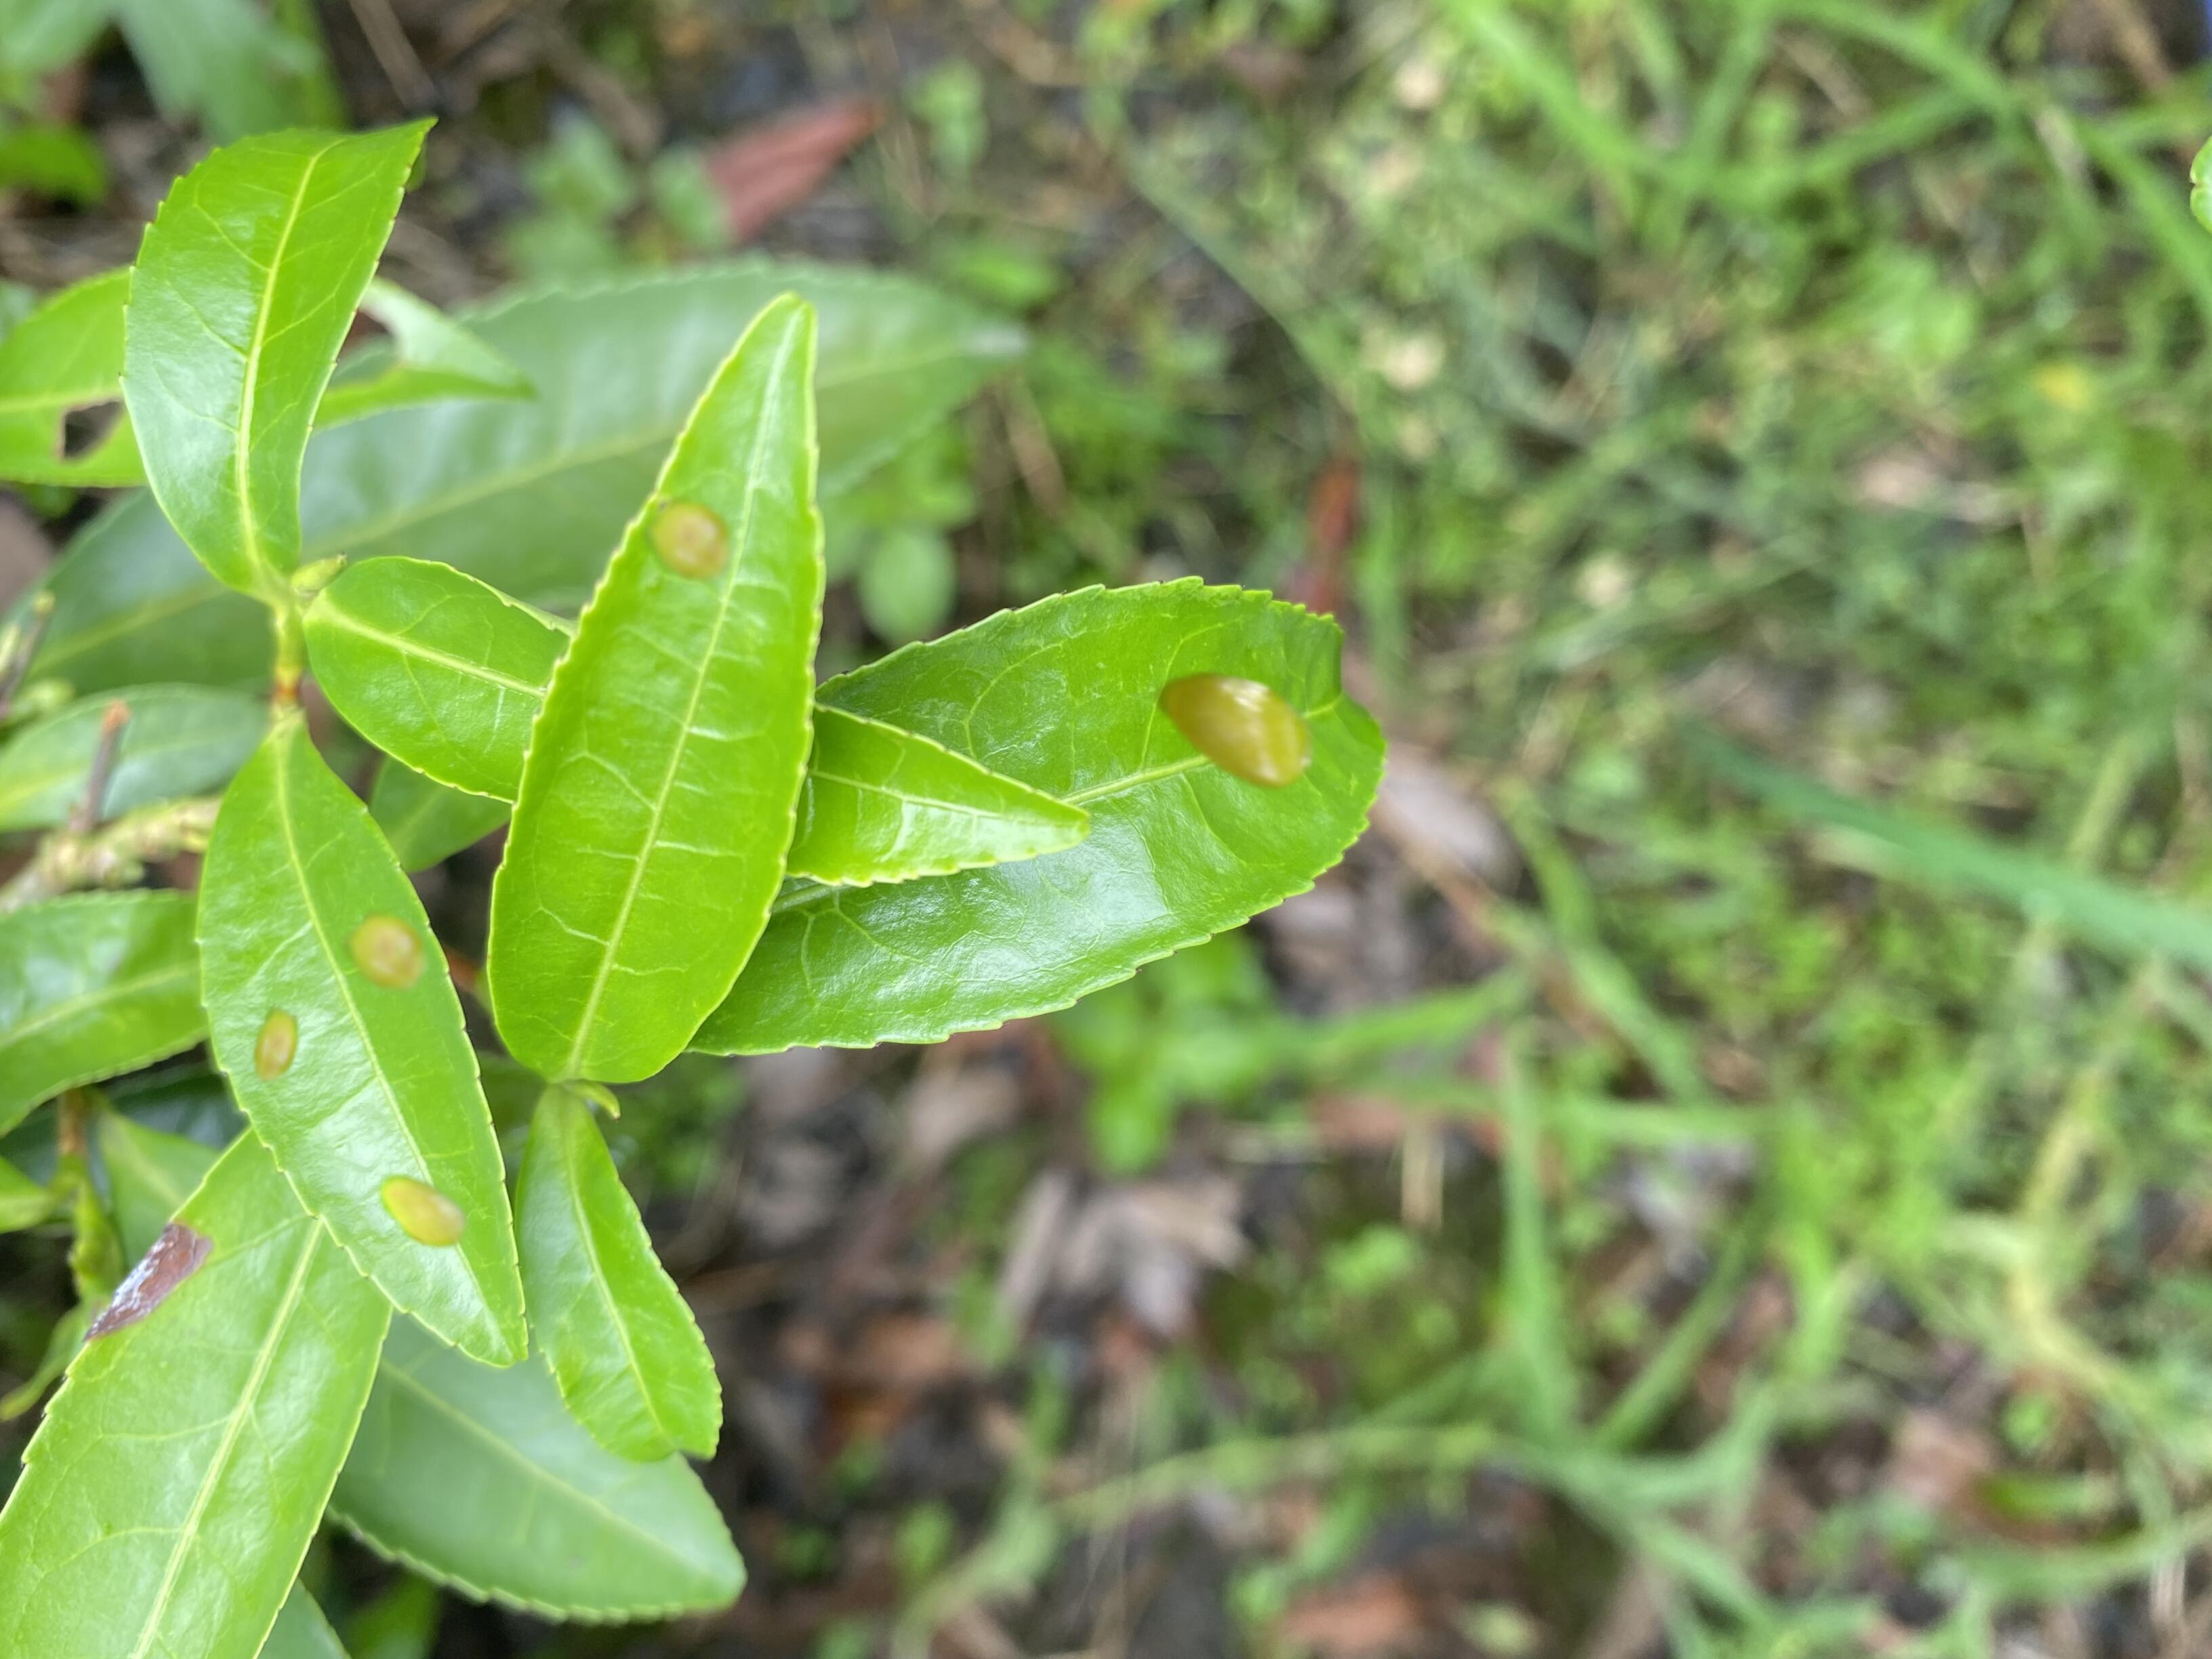chabing_high: (192, 708, 535, 1364)
chabing_low: (482, 291, 824, 1101), (813, 573, 1385, 1056)
chihuo_high: (2, 270, 538, 495)
healthy: (312, 573, 1090, 882), (120, 119, 439, 617), (516, 1093, 721, 1467)
tanju_low: (0, 1117, 394, 1656)
